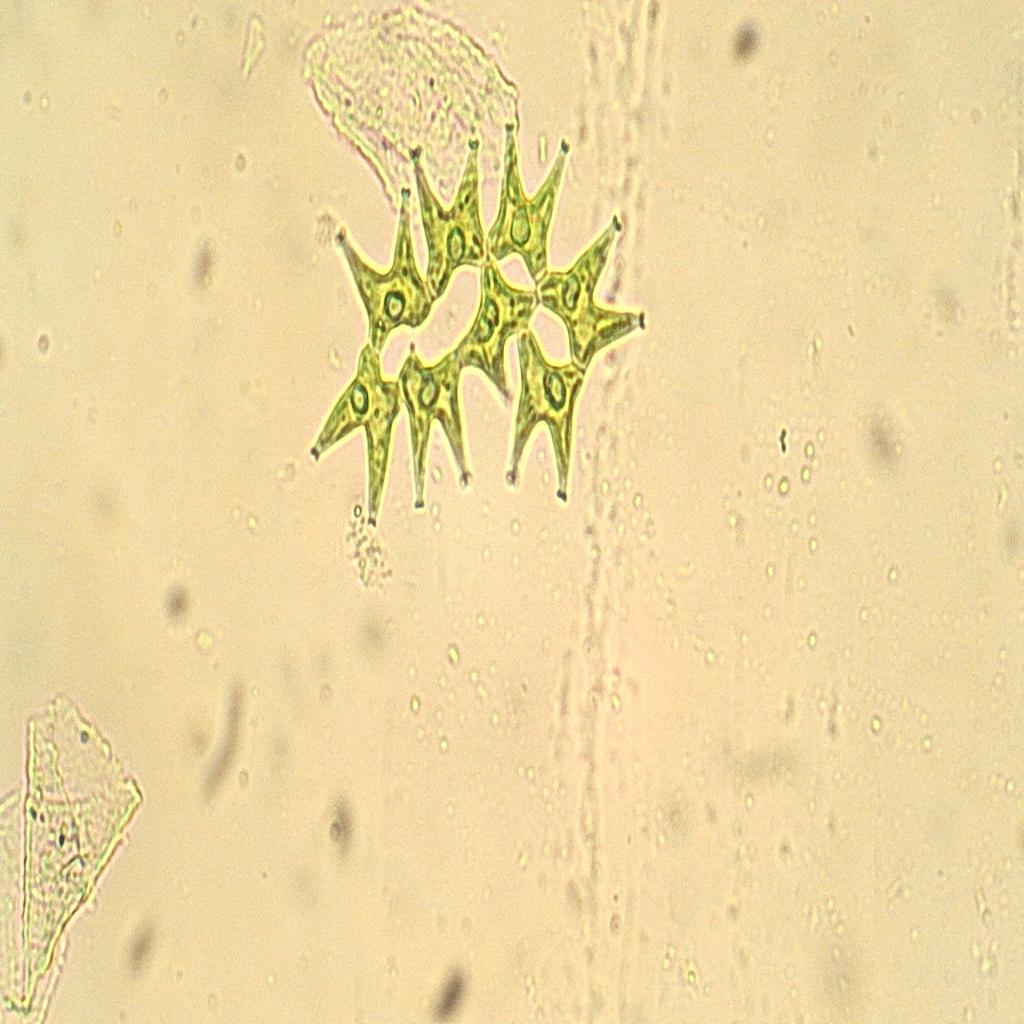Pediastrum_CFI: (285, 118, 672, 547)
